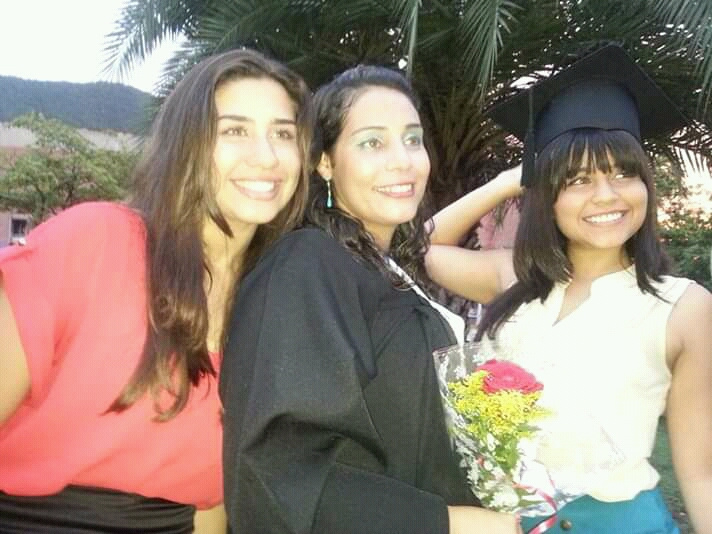person: (492, 85, 698, 393), (96, 47, 305, 326), (313, 76, 447, 315)
